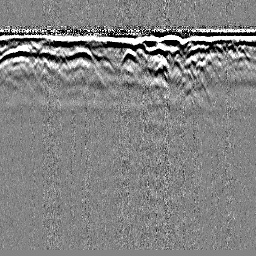cavity: (121, 48, 138, 61)
